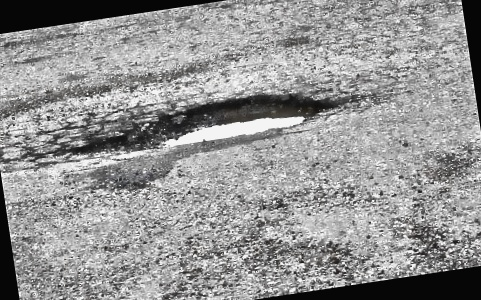pothole: (62, 78, 336, 165)
